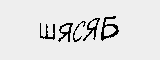Б: (100, 13, 119, 45)
С: (71, 17, 87, 49)
Ш: (36, 20, 55, 43)
Я: (58, 20, 74, 49), (83, 15, 99, 44)
